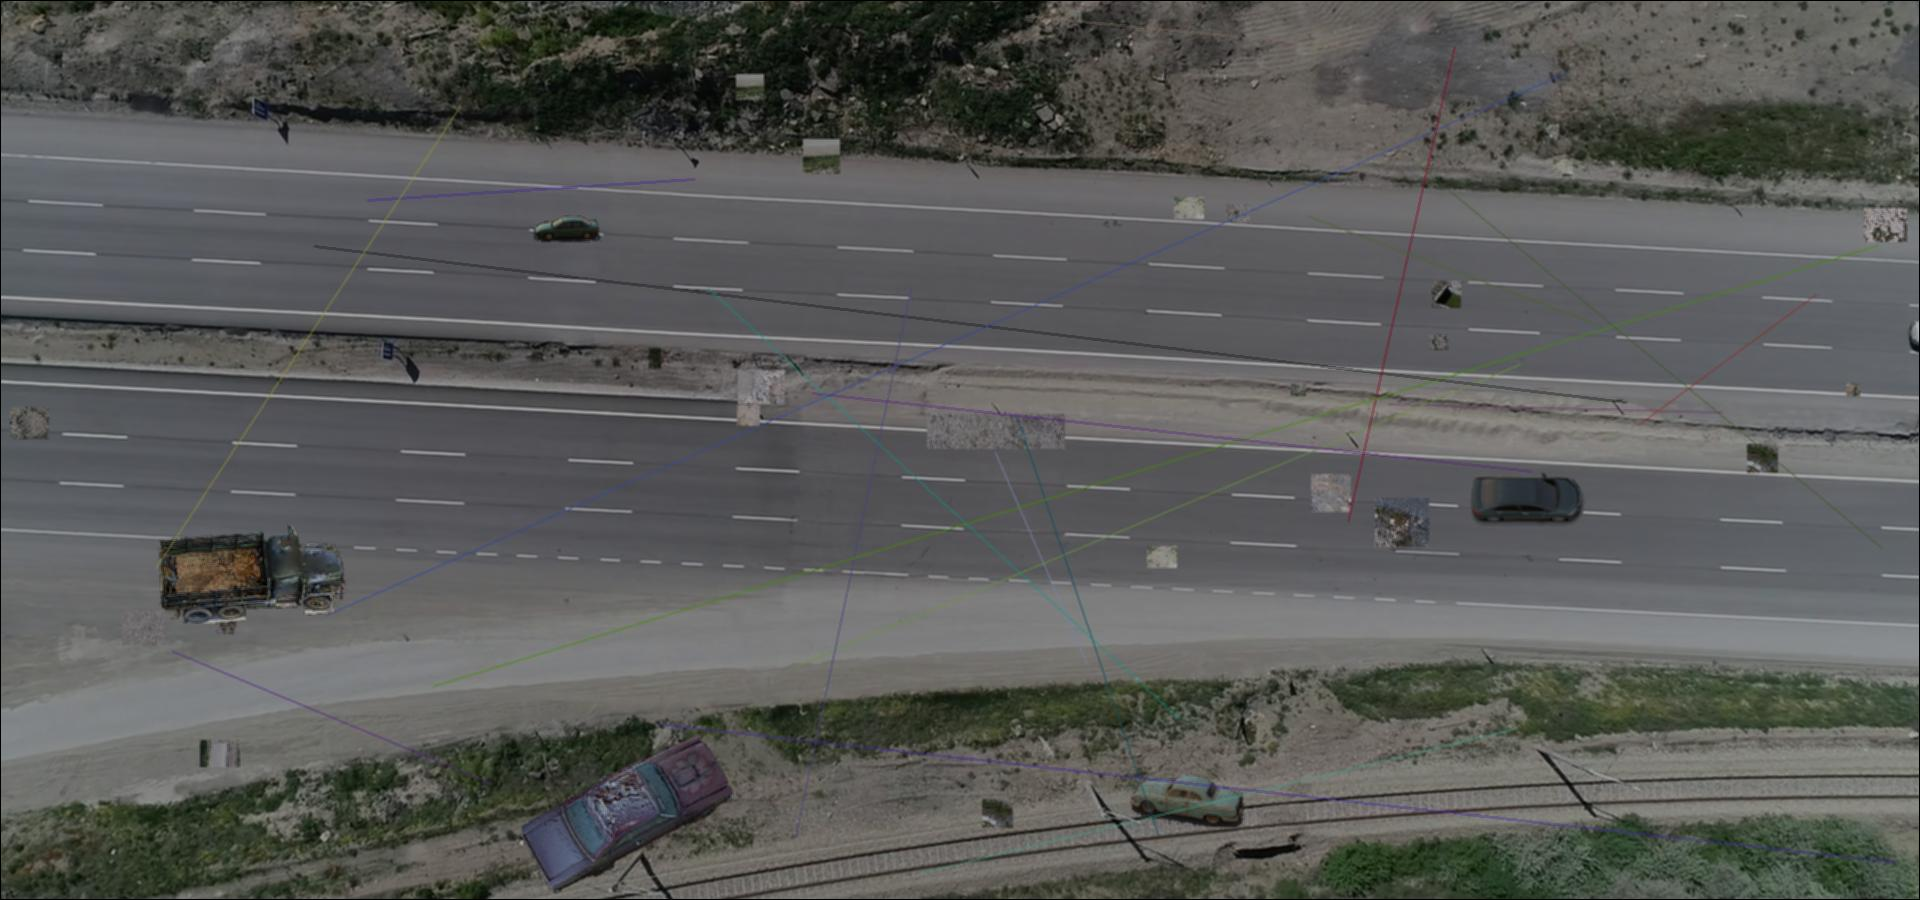arac: (522, 727, 733, 893), (156, 525, 347, 623), (1466, 471, 1591, 529), (1131, 771, 1244, 827), (533, 216, 602, 242)
